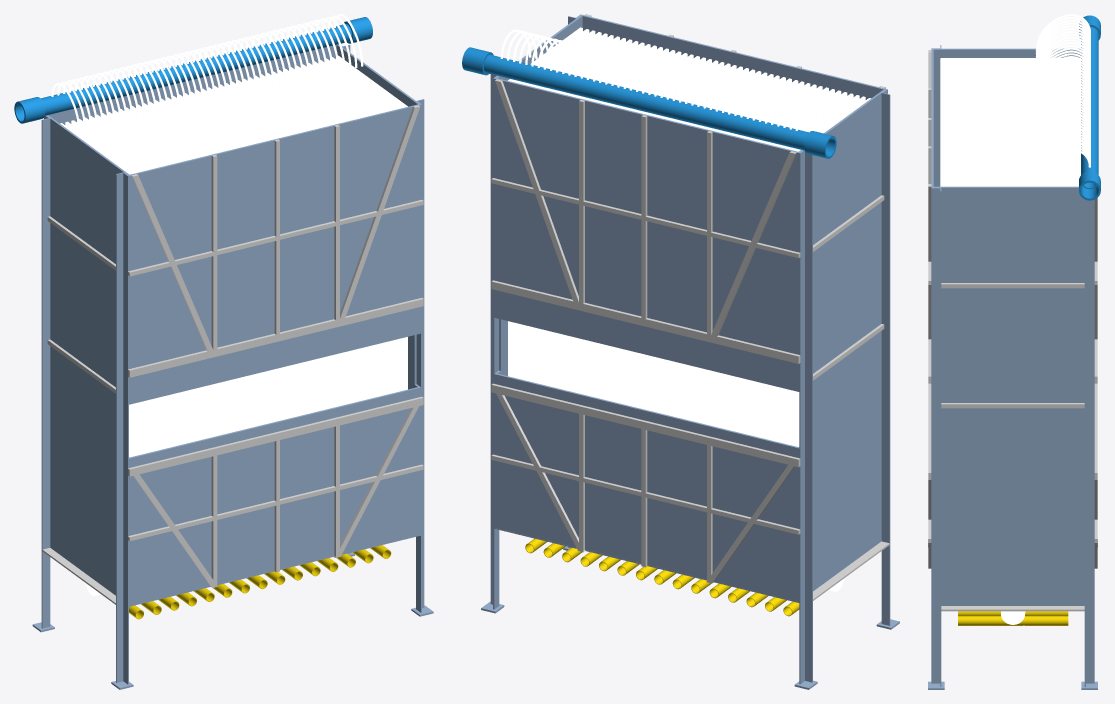
File: mbr-membrane-unit.gltf
The picture shows the model from 3 angles, left to right: view 1: azimuth 30°, elevation 25°; view 2: azimuth 150°, elevation 25°; view 3: azimuth 270°, elevation 25°; orthographic projection. The views are drawn at different scales.
Parts seen in each view (by area): view 1: 连接的实心几何图形 [237727], 连接的实心几何图形 [237854], 拉伸 [237886], 拉伸 [237570], 拉伸 [237565], 拉伸 [237588], 拉伸 [237558], 拉伸 [237697], 拉伸 [237669], 拉伸 [237686], 拉伸 [237581], 连接的实心几何图形 [237719] (+48 smaller); view 2: 连接的实心几何图形 [237727], 连接的实心几何图形 [237854], 拉伸 [237886], 拉伸 [237781], 拉伸 [237776], 拉伸 [237799], 拉伸 [237769], 拉伸 [237834], 拉伸 [237806], 拉伸 [237792], 拉伸 [237823], 拉伸 [237864] (+6 smaller); view 3: 连接的实心几何图形 [237727], 连接的实心几何图形 [237854], 拉伸 [237886], 拉伸 [238774], 拉伸 [237655], 拉伸 [237662], 拉伸 [237857], 拉伸 [237565], 连接的实心几何图形 [237760], 连接的实心几何图形 [237759], 连接的实心几何图形 [237755], 拉伸 [238589] (+49 smaller).
Part boxes in pixels (<box>): 连接的实心几何图形 [237727]: <box>47,44,420,606</box>; 连接的实心几何图形 [237854]: <box>41,44,424,684</box>; 拉伸 [237886]: <box>41,24,352,115</box>; 拉伸 [237570]: <box>211,125,339,349</box>; 拉伸 [237565]: <box>131,105,420,351</box>; 拉伸 [237588]: <box>128,396,423,476</box>; 拉伸 [237558]: <box>128,298,423,377</box>; 拉伸 [237697]: <box>211,425,339,587</box>; 拉伸 [237669]: <box>133,406,418,587</box>; 拉伸 [237686]: <box>128,464,423,541</box>; 拉伸 [237581]: <box>128,200,423,276</box>; 连接的实心几何图形 [237719]: <box>65,121,137,456</box>; 连接的实心几何图形 [237727]: <box>494,14,886,602</box>; 连接的实心几何图形 [237854]: <box>490,14,890,684</box>; 拉伸 [237886]: <box>483,54,808,150</box>; 拉伸 [237781]: <box>579,100,712,334</box>; 拉伸 [237776]: <box>495,79,796,336</box>; 拉伸 [237799]: <box>491,383,800,467</box>; 拉伸 [237769]: <box>491,280,800,363</box>; 拉伸 [237834]: <box>579,414,712,582</box>; 拉伸 [237806]: <box>496,393,794,583</box>; 拉伸 [237792]: <box>491,178,800,258</box>; 拉伸 [237823]: <box>491,454,800,534</box>; 拉伸 [237864]: <box>813,541,889,600</box>; 连接的实心几何图形 [237727]: <box>931,48,1084,605</box>; 连接的实心几何图形 [237854]: <box>931,45,1094,686</box>; 拉伸 [237886]: <box>1081,27,1098,189</box>; 拉伸 [238774]: <box>958,616,1068,625</box>; 拉伸 [237655]: <box>941,283,1084,288</box>; 拉伸 [237662]: <box>941,403,1084,408</box>; 拉伸 [237857]: <box>941,606,1084,611</box>; 拉伸 [237565]: <box>928,50,931,339</box>; 连接的实心几何图形 [237760]: <box>940,175,1080,178</box>; 连接的实心几何图形 [237759]: <box>940,172,1080,175</box>; 连接的实心几何图形 [237755]: <box>940,161,1080,164</box>; 拉伸 [238589]: <box>1079,171,1100,200</box>.
Size of the model in its own units: 1.77 by 2.67 by 0.7832.
